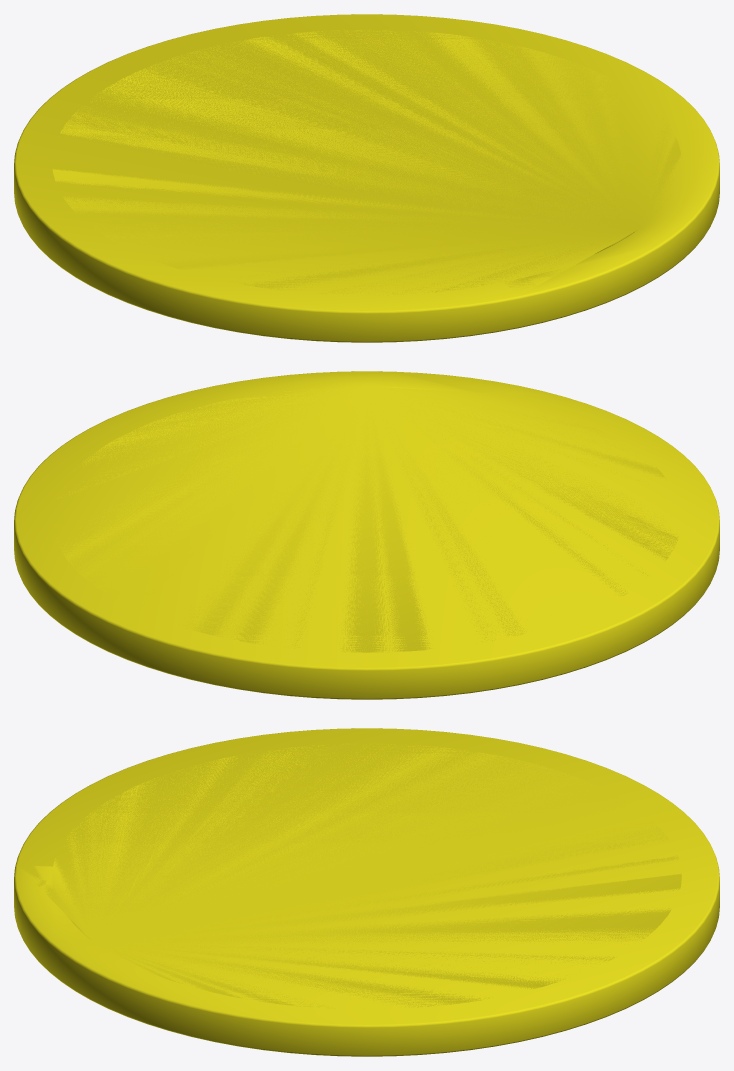
File: coin1.fbx
3 views of the same model, one above another, from view 1: azimuth 30°, elevation 25°; view 2: azimuth 150°, elevation 25°; view 3: azimuth 270°, elevation 25° (orthographic).
Parts seen in each view (by area): view 1: Cylinder; view 2: Cylinder; view 3: Cylinder.
Part boxes in pixels (left/top/right/bottom): Cylinder: left=14, top=14, right=719, bottom=342; Cylinder: left=14, top=371, right=719, bottom=699; Cylinder: left=14, top=728, right=719, bottom=1056.
Size of the model in its own units: 100 by 5 by 100.
